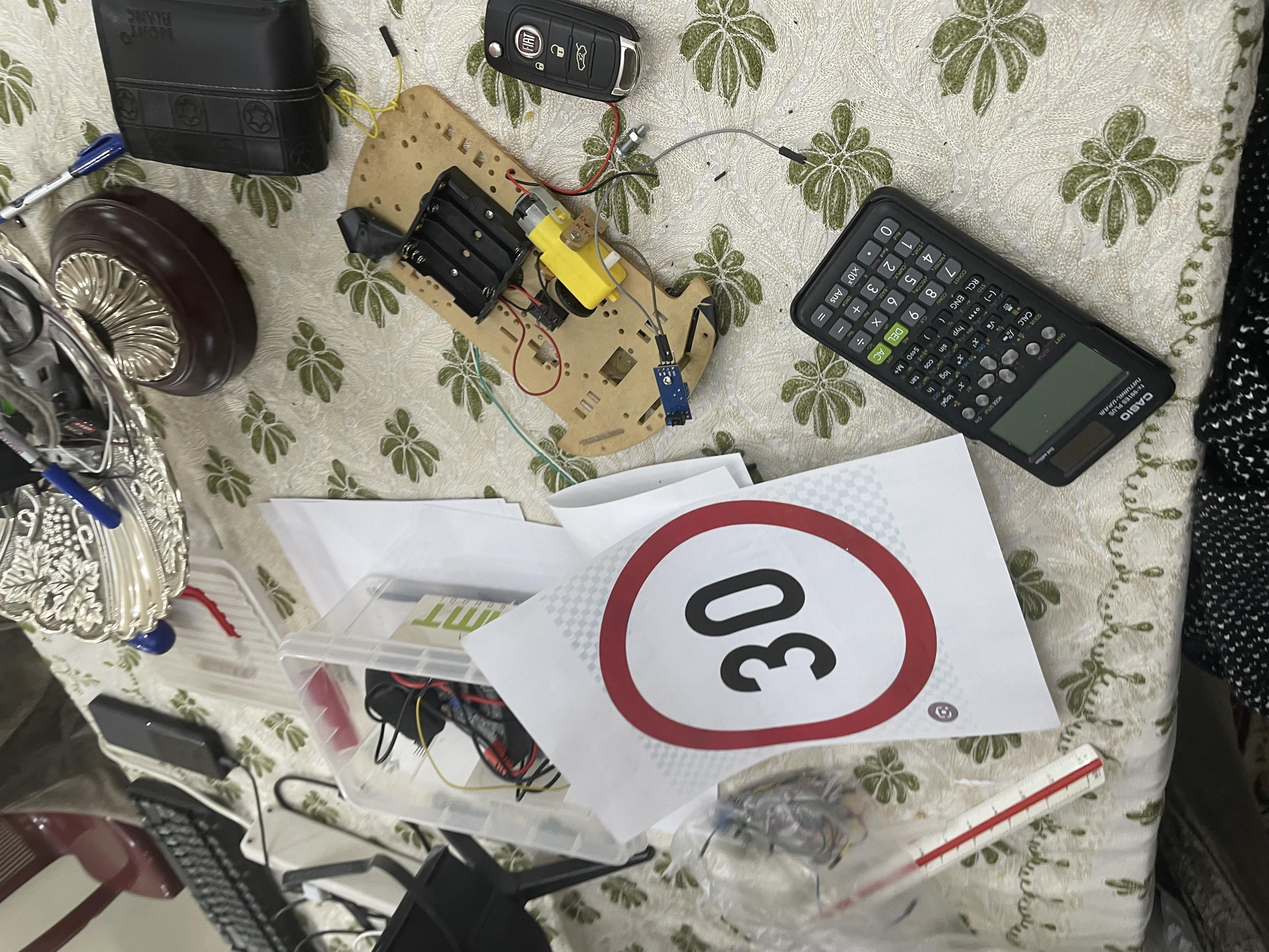30-speed: (261, 447, 614, 706)
